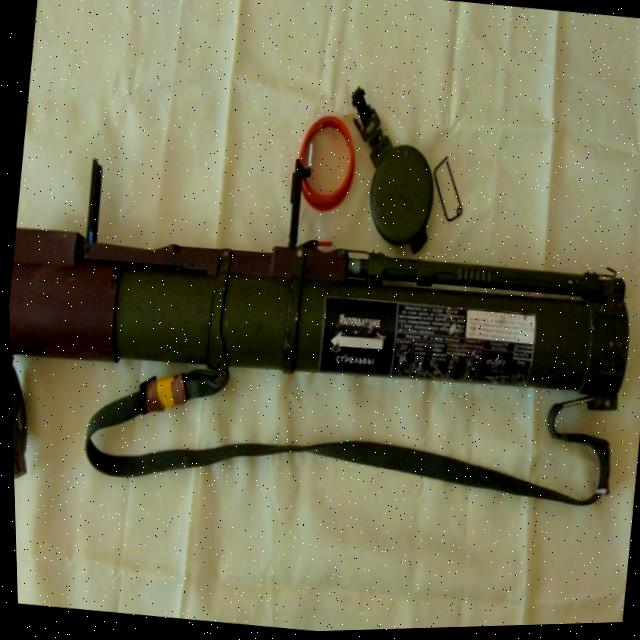rocket: (3, 111, 640, 579)
